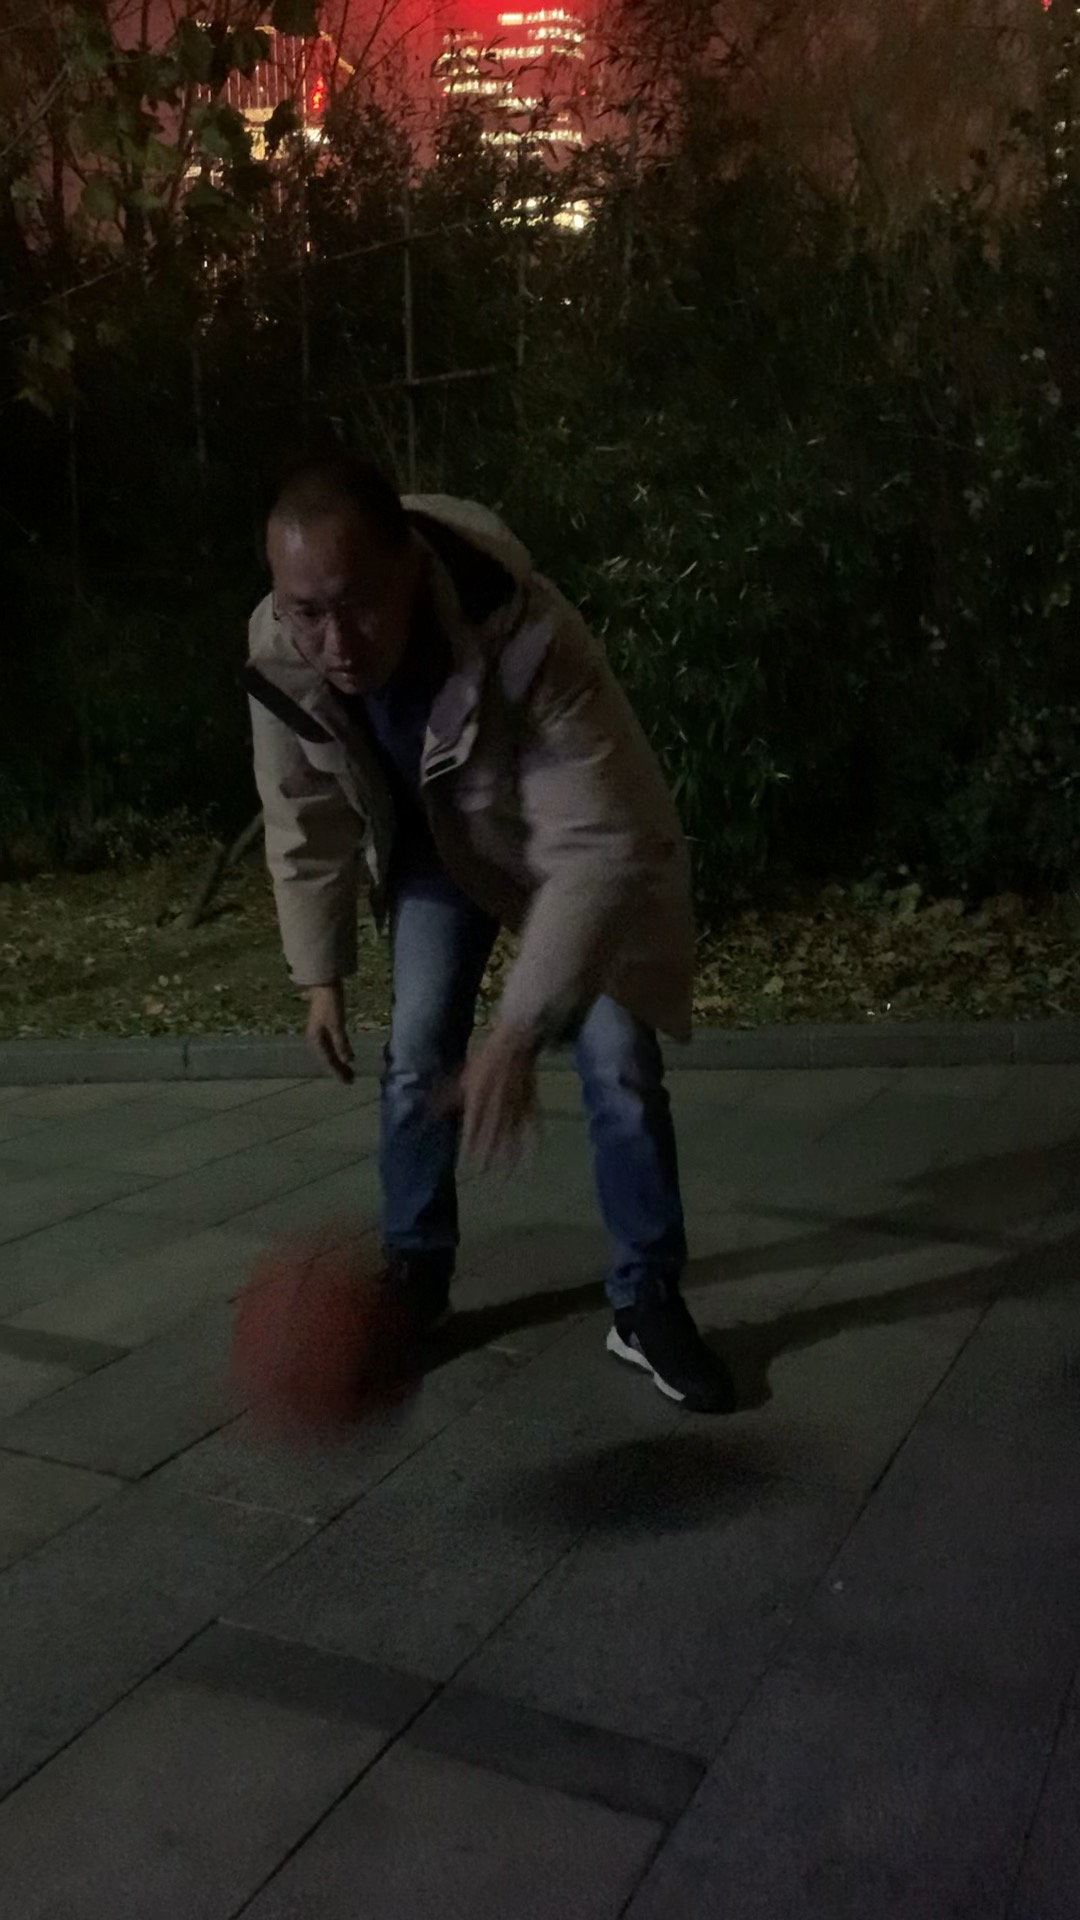ball: (237, 1225, 425, 1429)
